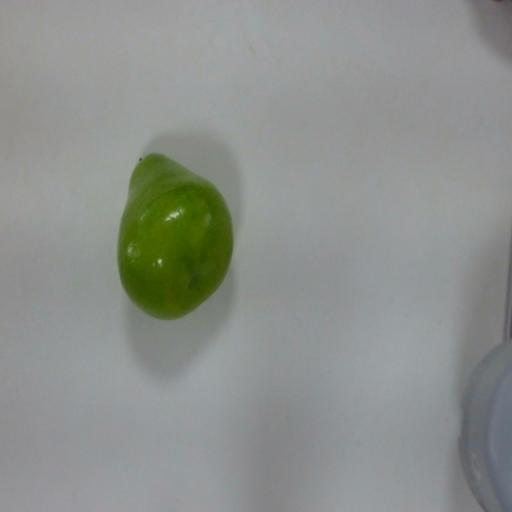Unripe: (116, 124, 242, 334)
